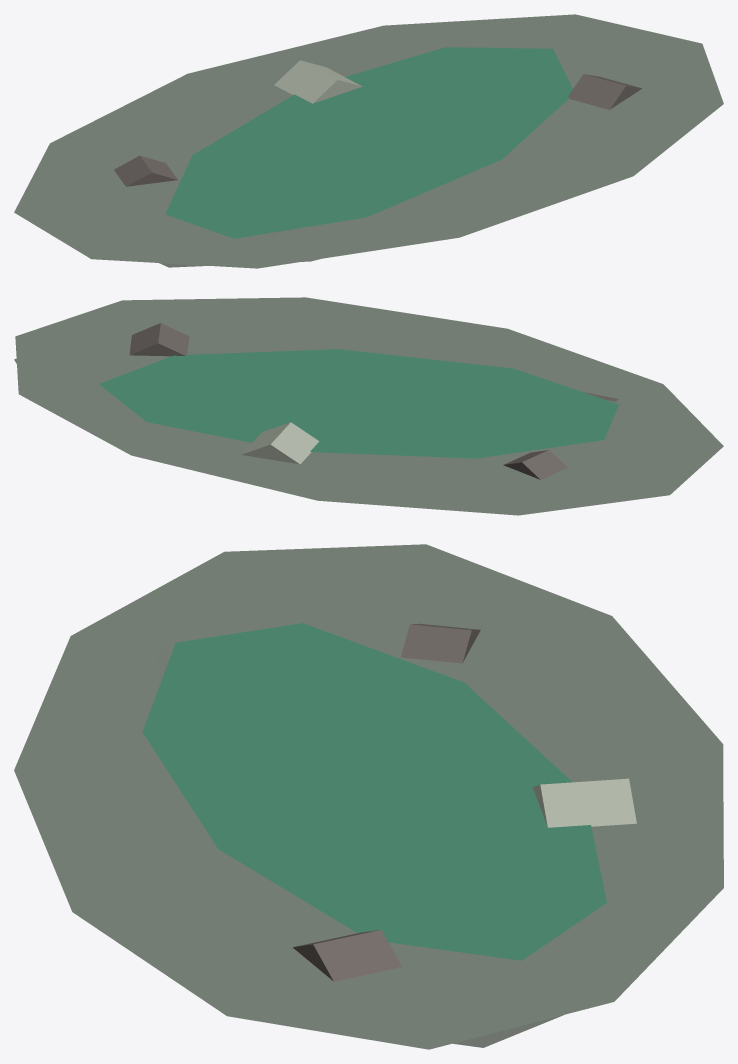
The model's file is memory_wastes_memory_island_base.glb.
3 views of the same model, one above another, from view 1: azimuth 30°, elevation 25°; view 2: azimuth 150°, elevation 25°; view 3: azimuth 270°, elevation 25° (orthographic). The views are drawn at different scales.
Visible parts, largest first — view 1: PREFAB_memory_wastes_memory_island_base_00_WASTE_Terrain_Wor, PREFAB_memory_wastes_memory_island_base_01_WASTE_Terrain_Wor, PREFAB_memory_wastes_memory_island_base_08_WASTE_Terrain_Wor, PREFAB_memory_wastes_memory_island_base_07_WASTE_Terrain_Wor, PREFAB_memory_wastes_memory_island_base_06_WASTE_Terrain_Wor; view 2: PREFAB_memory_wastes_memory_island_base_00_WASTE_Terrain_Wor, PREFAB_memory_wastes_memory_island_base_01_WASTE_Terrain_Wor, PREFAB_memory_wastes_memory_island_base_08_WASTE_Terrain_Wor, PREFAB_memory_wastes_memory_island_base_07_WASTE_Terrain_Wor, PREFAB_memory_wastes_memory_island_base_06_WASTE_Terrain_Wor; view 3: PREFAB_memory_wastes_memory_island_base_00_WASTE_Terrain_Wor, PREFAB_memory_wastes_memory_island_base_01_WASTE_Terrain_Wor, PREFAB_memory_wastes_memory_island_base_08_WASTE_Terrain_Wor, PREFAB_memory_wastes_memory_island_base_07_WASTE_Terrain_Wor, PREFAB_memory_wastes_memory_island_base_06_WASTE_Terrain_Wor.
Part boxes in pixels (left/top/right/bottom): PREFAB_memory_wastes_memory_island_base_00_WASTE_Terrain_Wor: left=14, top=14, right=723, bottom=268; PREFAB_memory_wastes_memory_island_base_01_WASTE_Terrain_Wor: left=165, top=47, right=572, bottom=238; PREFAB_memory_wastes_memory_island_base_08_WASTE_Terrain_Wor: left=274, top=60, right=362, bottom=103; PREFAB_memory_wastes_memory_island_base_07_WASTE_Terrain_Wor: left=568, top=74, right=642, bottom=109; PREFAB_memory_wastes_memory_island_base_06_WASTE_Terrain_Wor: left=114, top=155, right=177, bottom=186; PREFAB_memory_wastes_memory_island_base_00_WASTE_Terrain_Wor: left=15, top=297, right=723, bottom=515; PREFAB_memory_wastes_memory_island_base_01_WASTE_Terrain_Wor: left=99, top=349, right=618, bottom=458; PREFAB_memory_wastes_memory_island_base_08_WASTE_Terrain_Wor: left=241, top=422, right=319, bottom=464; PREFAB_memory_wastes_memory_island_base_07_WASTE_Terrain_Wor: left=129, top=323, right=189, bottom=356; PREFAB_memory_wastes_memory_island_base_06_WASTE_Terrain_Wor: left=503, top=450, right=567, bottom=479; PREFAB_memory_wastes_memory_island_base_00_WASTE_Terrain_Wor: left=14, top=544, right=723, bottom=1049; PREFAB_memory_wastes_memory_island_base_01_WASTE_Terrain_Wor: left=142, top=623, right=606, bottom=960; PREFAB_memory_wastes_memory_island_base_08_WASTE_Terrain_Wor: left=533, top=778, right=636, bottom=827; PREFAB_memory_wastes_memory_island_base_07_WASTE_Terrain_Wor: left=293, top=929, right=401, bottom=981; PREFAB_memory_wastes_memory_island_base_06_WASTE_Terrain_Wor: left=400, top=623, right=480, bottom=663.
Size of the model in its own units: 22.62 by 0.86 by 13.43.
